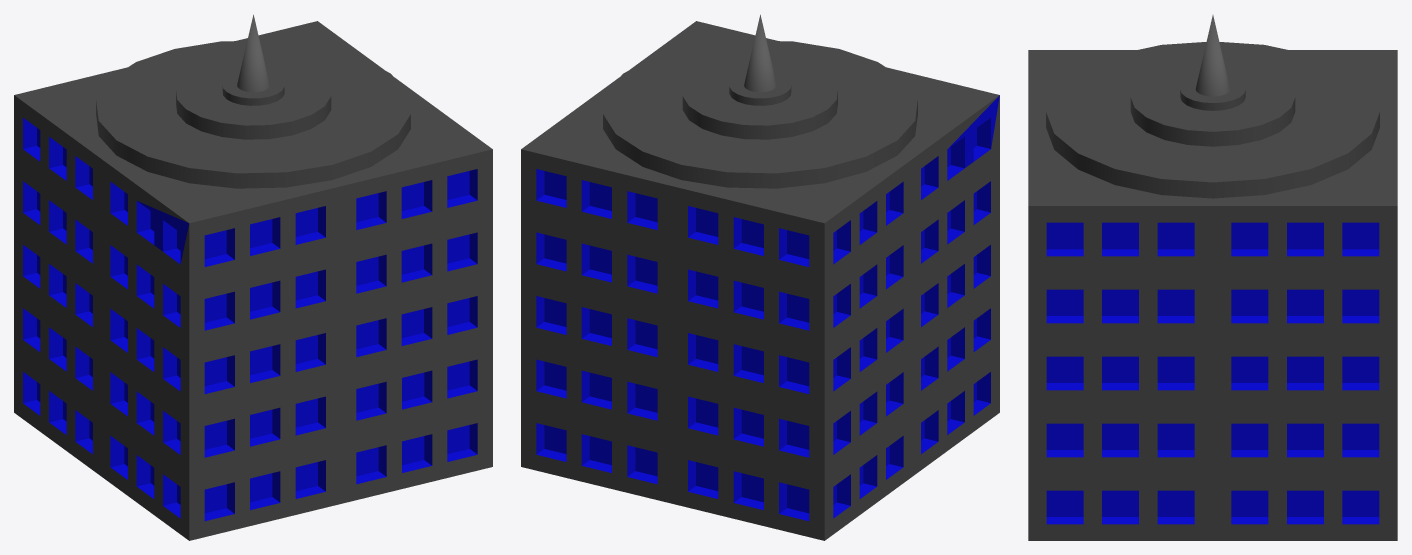
File: tower.fbx
The picture shows the model from 3 angles, left to right: view 1: azimuth 30°, elevation 25°; view 2: azimuth 150°, elevation 25°; view 3: azimuth 270°, elevation 25°; orthographic projection. The views are drawn at different scales.
Visible parts, largest first — view 1: pCube177; view 2: pCube177; view 3: pCube177.
Part boxes in pixels (box(x1,y1,x2,y2)): pCube177: box(14, 14, 492, 540); pCube177: box(521, 14, 999, 540); pCube177: box(1028, 15, 1397, 540).
Size of the model in its own units: 10 by 13.4 by 10.
